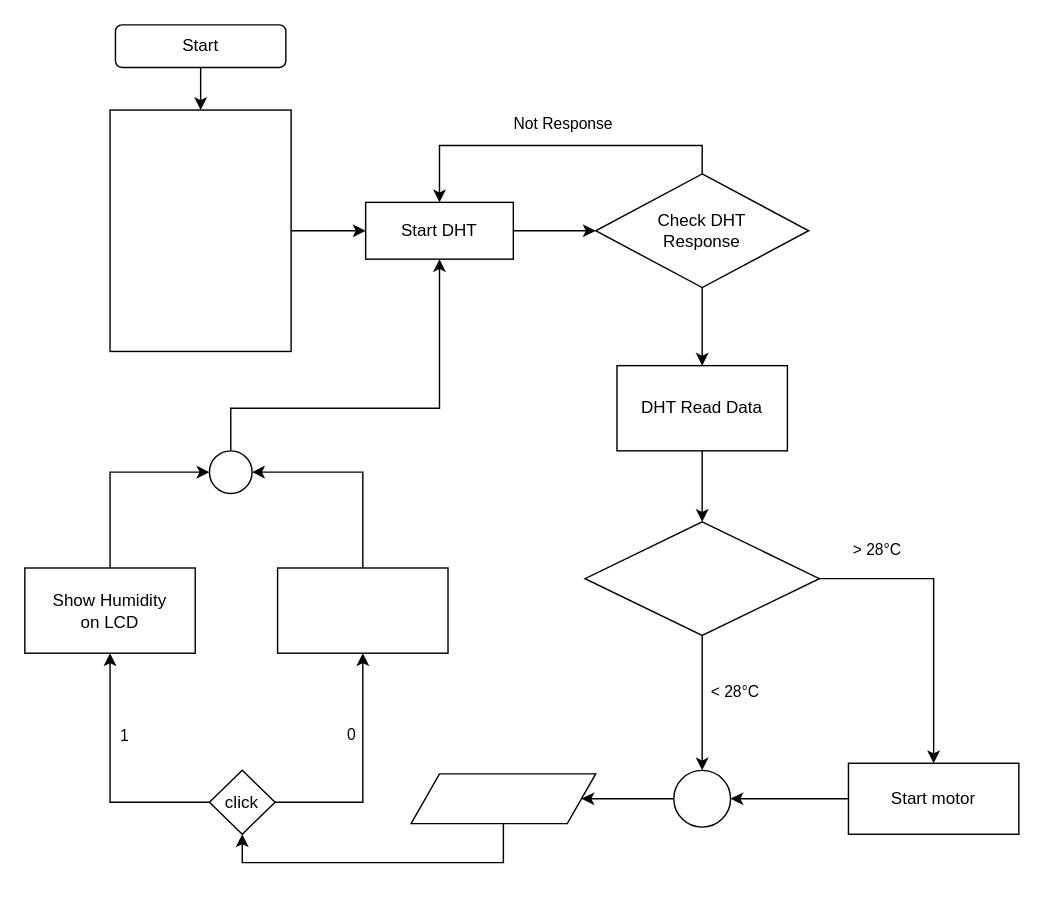
Some shapes in this 1044 by 899 pixel diagram are drawn without their labels. Here are the shapes that lost their labels. From the top down, the centre of each, then its label:
At (200,230): "Setup · SystemClock · GPIO - DHT11 - LED - Button - Motor · EXTI · LCD · TIMER".
At (701,577): "Temperature over 28°C".
At (362,610): "Show Tempeature on LCD".
At (503,798): "Button pressed".
